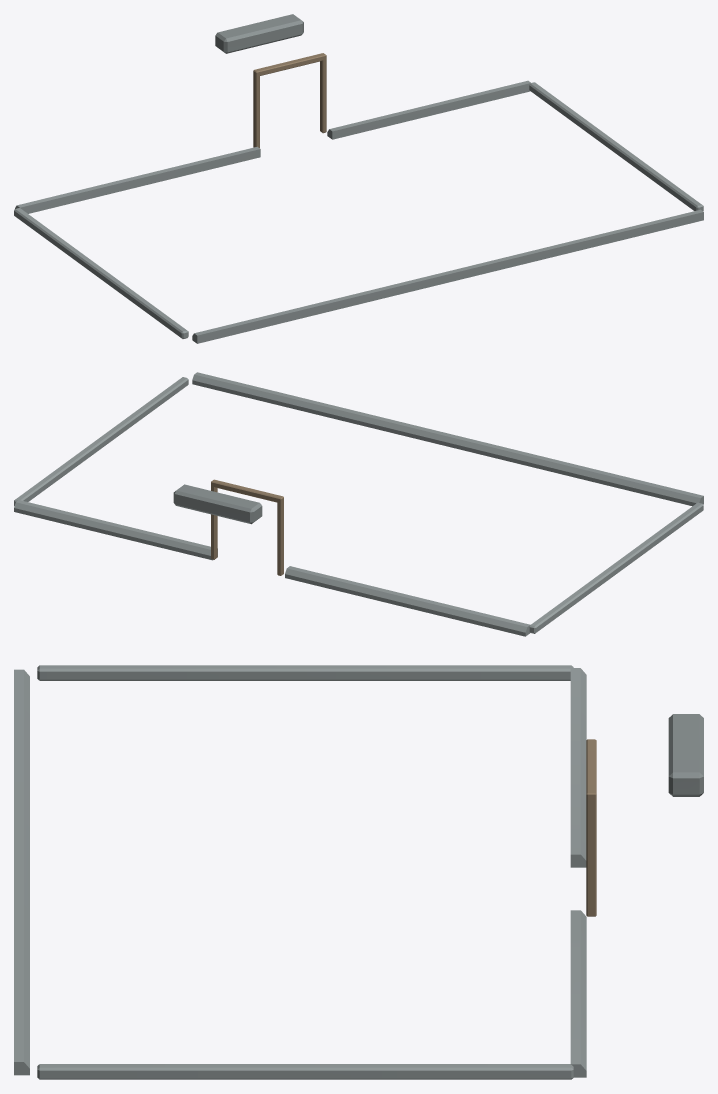
Rendered from retreat_finish_a4_runtime.glb.
The picture shows the model from 3 angles, top to bottom: view 1: azimuth 30°, elevation 25°; view 2: azimuth 150°, elevation 25°; view 3: azimuth 270°, elevation 25°; orthographic projection. The views are drawn at different scales.
Visible parts, largest first — view 1: Finish_A4_Excavation_Foot_Seal_2, Finish_A4_Excavation_Foot_Seal_0, Finish_A4_Excavation_Foot_Seal_1, Finish_A4_West_Cove, Finish_A4_East_Cove, Finish_A4_Rock_Portal_Crown, Finish_A4_Fixed_Oak_Head, Finish_A4_Fixed_Oak_Reveal_L, Finish_A4_Fixed_Oak_Reveal_R; view 2: Finish_A4_Excavation_Foot_Seal_2, Finish_A4_Excavation_Foot_Seal_0, Finish_A4_Excavation_Foot_Seal_1, Finish_A4_West_Cove, Finish_A4_East_Cove, Finish_A4_Rock_Portal_Crown, Finish_A4_Fixed_Oak_Head, Finish_A4_Fixed_Oak_Reveal_L; view 3: Finish_A4_East_Cove, Finish_A4_West_Cove, Finish_A4_Excavation_Foot_Seal_2, Finish_A4_Excavation_Foot_Seal_0, Finish_A4_Rock_Portal_Crown, Finish_A4_Excavation_Foot_Seal_1, Finish_A4_Fixed_Oak_Reveal_R, Finish_A4_Fixed_Oak_Head.
Part boxes in pixels (x1,y1,x2,y2): Finish_A4_Excavation_Foot_Seal_2: (192,209,703,343); Finish_A4_Excavation_Foot_Seal_0: (15,146,260,213); Finish_A4_Excavation_Foot_Seal_1: (327,80,530,139); Finish_A4_West_Cove: (14,208,188,338); Finish_A4_East_Cove: (529,82,703,210); Finish_A4_Rock_Portal_Crown: (215,14,303,53); Finish_A4_Fixed_Oak_Head: (253,53,326,76); Finish_A4_Fixed_Oak_Reveal_L: (253,73,259,148); Finish_A4_Fixed_Oak_Reveal_R: (320,57,326,133); Finish_A4_Excavation_Foot_Seal_2: (192,372,703,506); Finish_A4_Excavation_Foot_Seal_0: (285,566,530,636); Finish_A4_Excavation_Foot_Seal_1: (14,500,217,560); Finish_A4_West_Cove: (529,502,703,633); Finish_A4_East_Cove: (14,377,188,505); Finish_A4_Rock_Portal_Crown: (173,484,262,524); Finish_A4_Fixed_Oak_Head: (211,479,283,502); Finish_A4_Fixed_Oak_Reveal_L: (277,499,283,575); Finish_A4_East_Cove: (37,1064,573,1079); Finish_A4_West_Cove: (37,665,573,680); Finish_A4_Excavation_Foot_Seal_2: (14,669,29,1075); Finish_A4_Excavation_Foot_Seal_0: (570,668,586,867); Finish_A4_Rock_Portal_Crown: (668,714,703,796); Finish_A4_Excavation_Foot_Seal_1: (570,910,586,1077); Finish_A4_Fixed_Oak_Reveal_R: (586,797,596,916); Finish_A4_Fixed_Oak_Head: (586,739,596,800).
Bounding box in the file's own units: 18.44 × 3.23 × 13.3.
